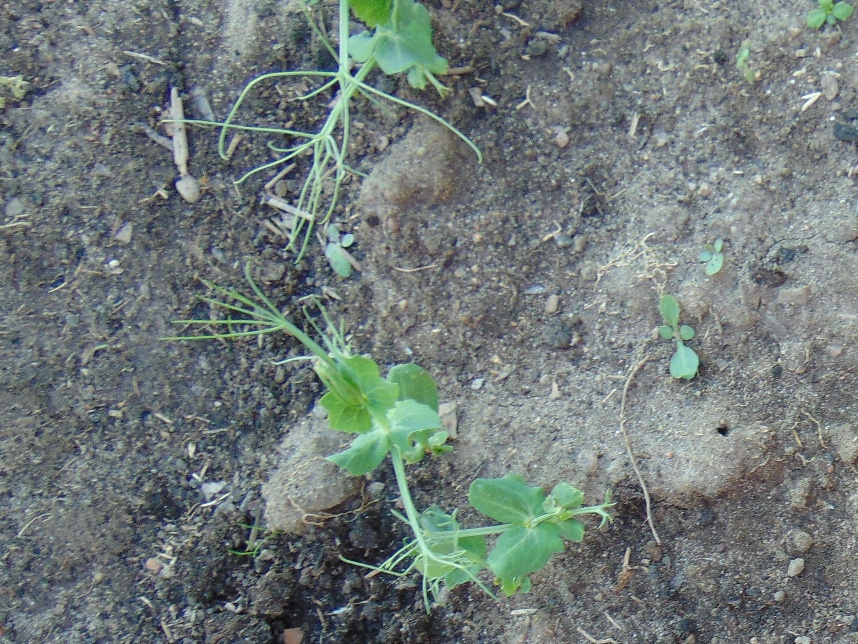crop: (246, 284, 447, 484), (270, 1, 445, 200)
weed: (650, 292, 704, 381), (322, 225, 355, 279), (800, 1, 852, 29), (700, 238, 724, 277)
